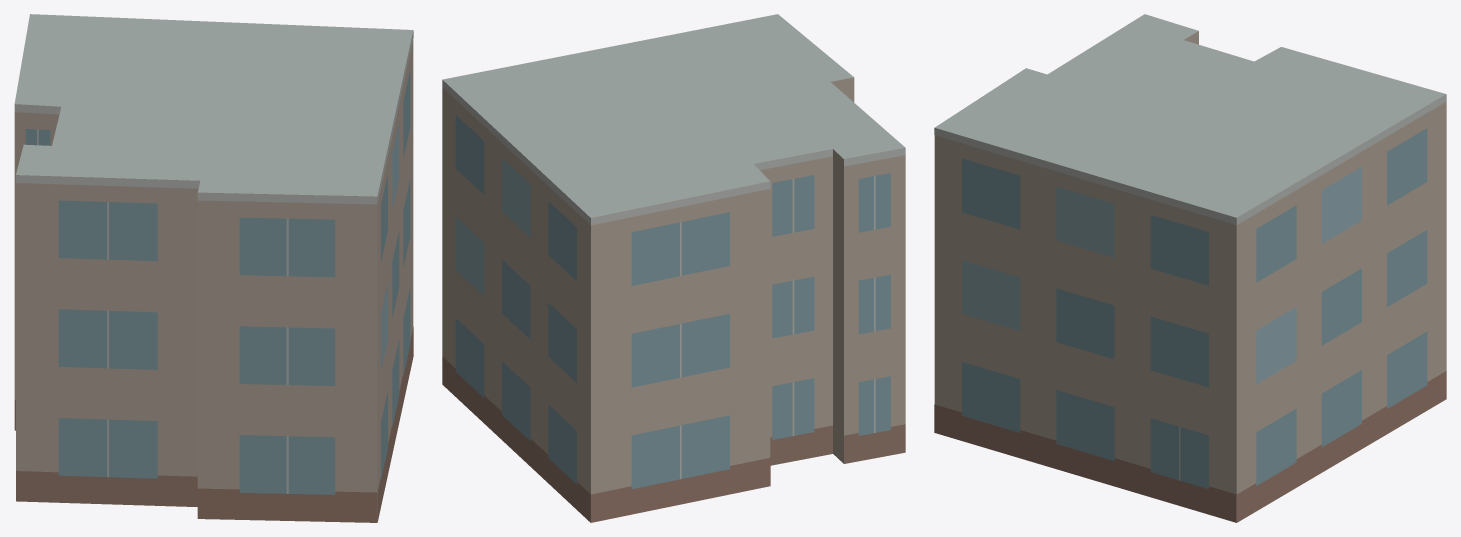
File: survey-upis-32759177.glb
The picture shows the model from 3 angles, left to right: view 1: azimuth 30°, elevation 25°; view 2: azimuth 150°, elevation 25°; view 3: azimuth 270°, elevation 25°; orthographic projection. The views are drawn at different scales.
Parts seen in each view (by area): view 1: survey-upis-32759177.tmp; view 2: survey-upis-32759177.tmp; view 3: survey-upis-32759177.tmp.
Part boxes in pixels (x1,y1,x2,y2): survey-upis-32759177.tmp: [14, 14, 413, 522]; survey-upis-32759177.tmp: [442, 14, 905, 522]; survey-upis-32759177.tmp: [934, 14, 1446, 522].
Bounding box in the file's own units: 14.34 × 10 × 15.22.
